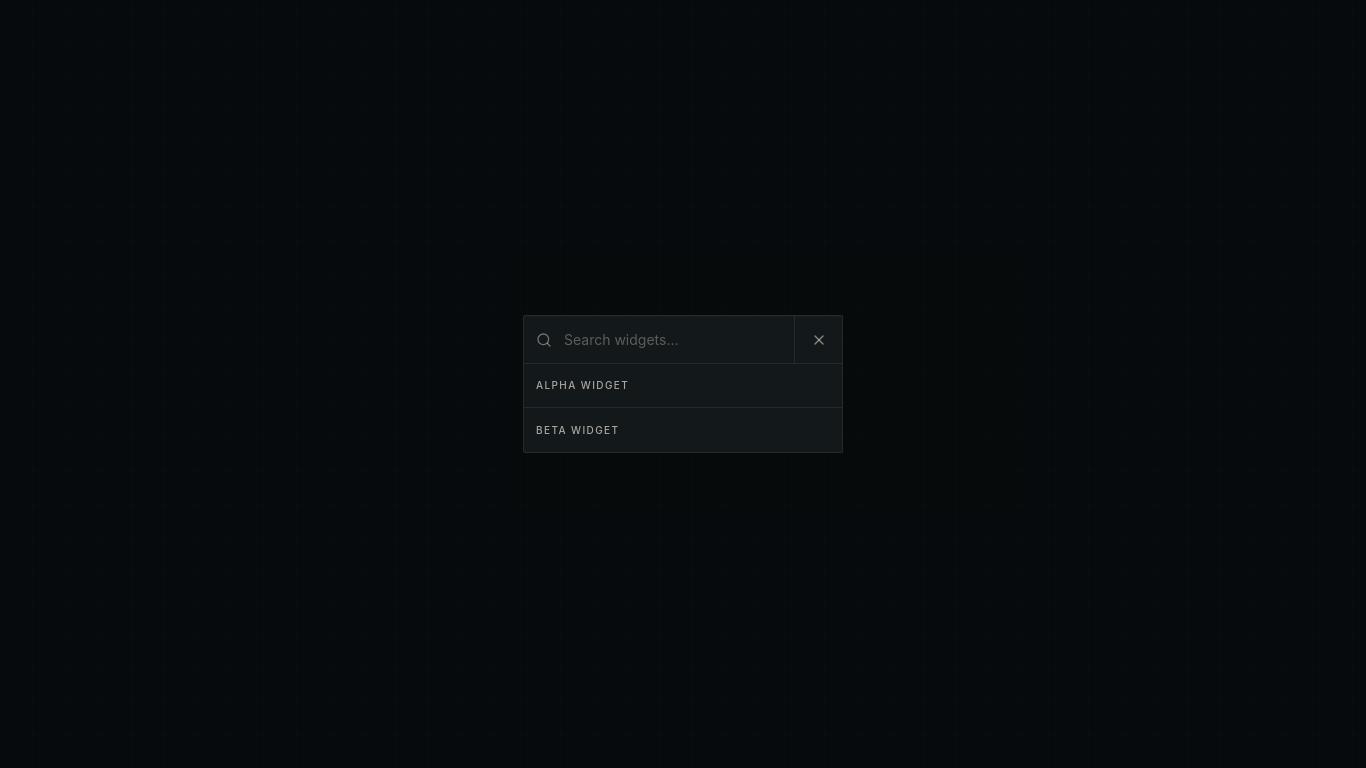
Scenario: widget picker › shows one mock preview and description on row hover or focus
Hover over the button "Alpha widget" at (583, 385), box [524, 364, 842, 408]
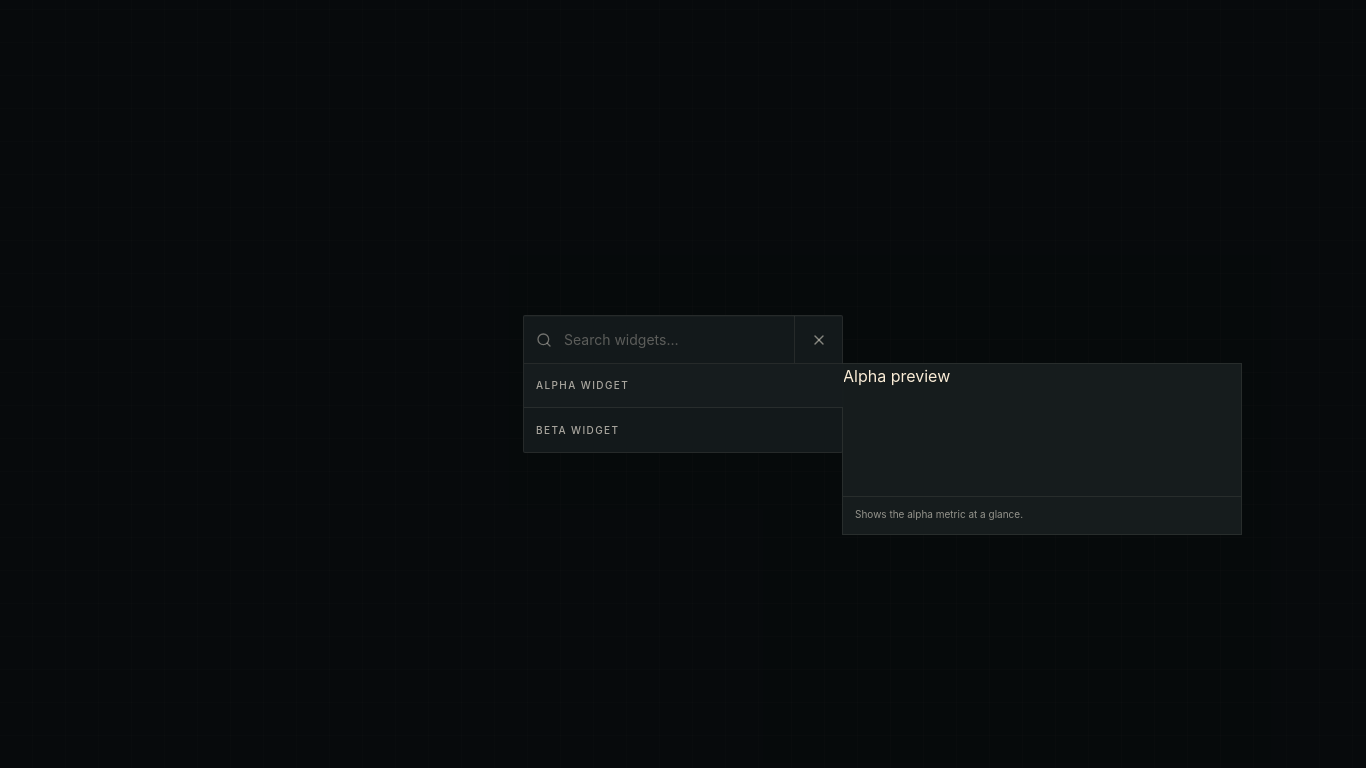
expect the tooltip shows "Alpha preview": met, box [843, 366, 950, 386]
expect the tooltip shows "Shows the alpha metric at a glance.": met, box [855, 508, 1023, 520]
Move the pointer off the button "Alpha widget", box [524, 364, 842, 408]
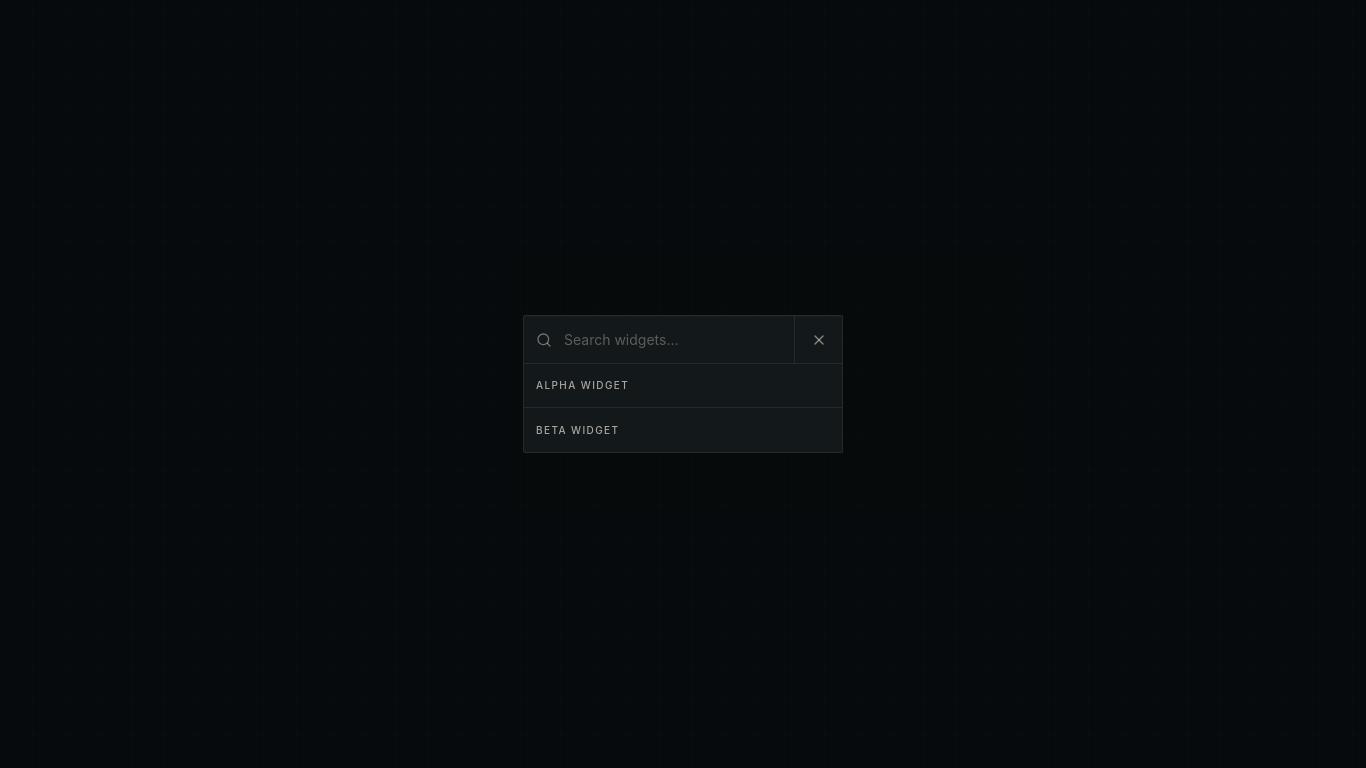
expect the tooltip "Alpha preview Shows the alpha metric at a glance." is gone: met
Focus the button "Beta widget" at (578, 430), box [524, 408, 842, 452]
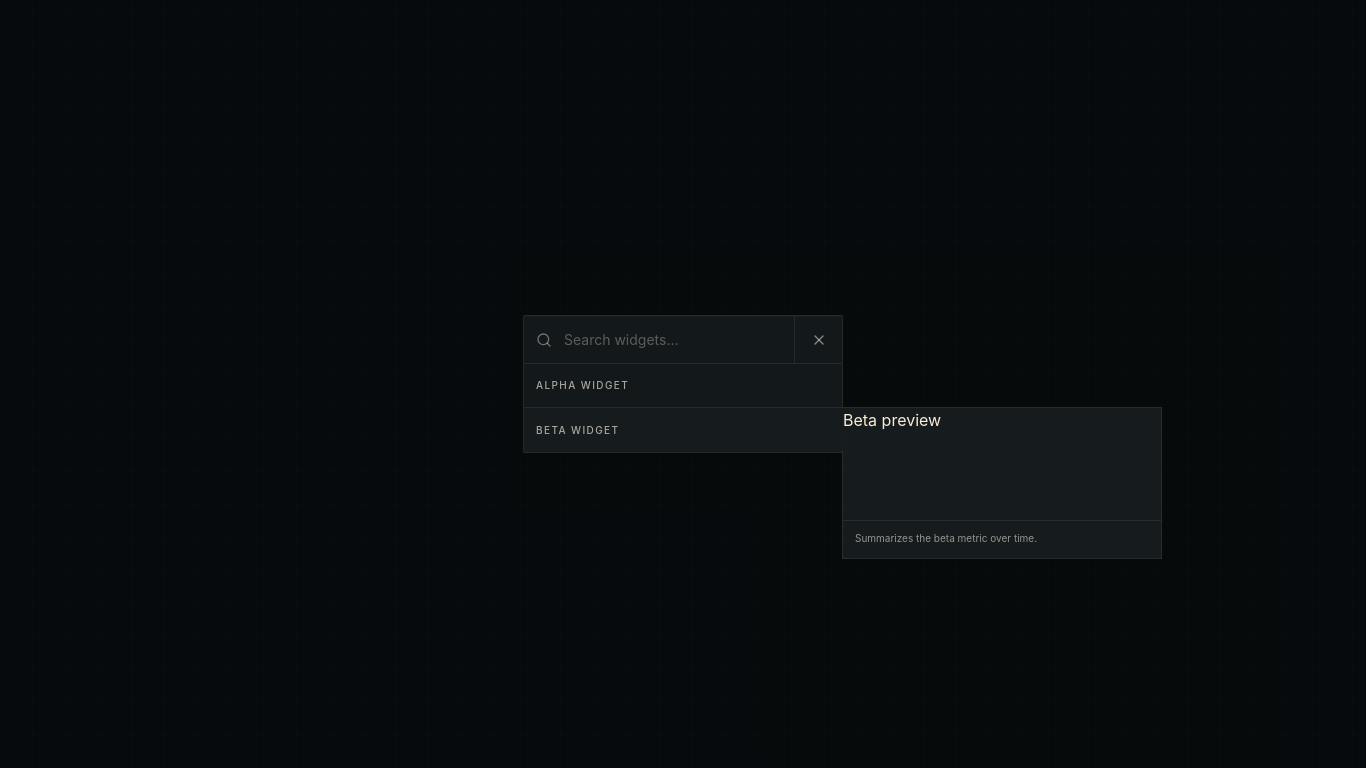
expect the tooltip shows "Beta preview": met, box [843, 410, 941, 430]
expect the tooltip shows "Summarizes the beta metric over time.": met, box [855, 532, 1037, 544]
